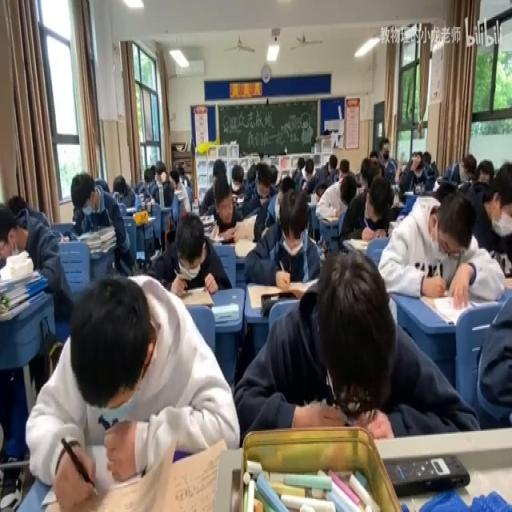calculator: (426, 294, 490, 326), (248, 282, 315, 308), (76, 225, 115, 253), (178, 286, 212, 307), (233, 212, 257, 240), (210, 301, 238, 323), (234, 236, 256, 258), (40, 484, 56, 508), (344, 238, 370, 250), (200, 214, 215, 234), (216, 228, 236, 243), (387, 219, 399, 235), (320, 212, 339, 222), (173, 186, 185, 200), (230, 195, 244, 205), (125, 205, 137, 215), (308, 195, 318, 206), (58, 232, 69, 242), (315, 189, 324, 201), (505, 277, 512, 288), (404, 191, 414, 196)
paper: (27, 269, 236, 506), (234, 248, 474, 440), (0, 196, 74, 333), (243, 186, 320, 284), (149, 210, 229, 294), (474, 283, 512, 427), (466, 161, 512, 266), (338, 166, 386, 249), (199, 162, 240, 222), (398, 148, 434, 192), (148, 160, 174, 206), (313, 154, 338, 198), (442, 152, 474, 185), (112, 174, 136, 208), (380, 142, 398, 182), (474, 158, 492, 186), (432, 181, 456, 202), (6, 195, 26, 220), (290, 155, 306, 185), (368, 159, 382, 189), (337, 160, 349, 188), (230, 165, 244, 189), (278, 174, 293, 194), (169, 166, 181, 190), (94, 175, 110, 192), (246, 164, 258, 186), (211, 159, 224, 179), (390, 203, 403, 222), (267, 164, 277, 186), (134, 181, 148, 196), (429, 159, 438, 178), (421, 152, 430, 168), (369, 149, 378, 162), (181, 175, 190, 188), (150, 162, 156, 179), (411, 154, 419, 164), (306, 162, 312, 175), (258, 151, 265, 162), (178, 168, 185, 176)
person: (384, 452, 470, 494), (414, 182, 424, 193)
